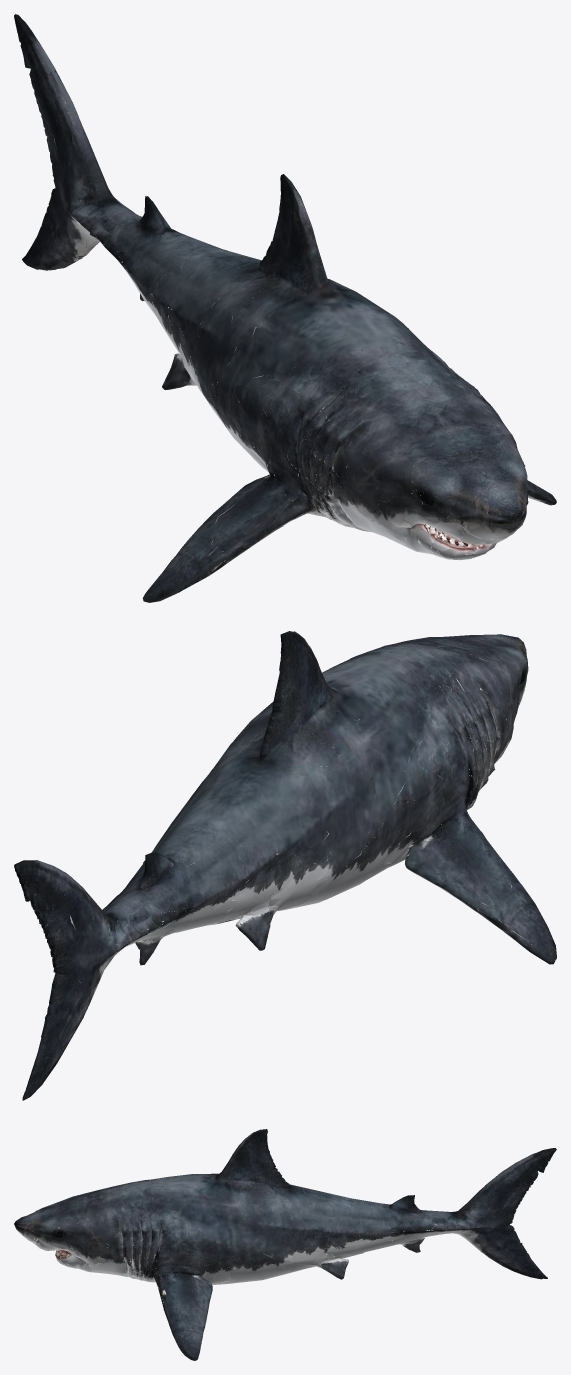
The model's file is shark.glb.
3 views of the same model, one above another, from view 1: azimuth 30°, elevation 25°; view 2: azimuth 150°, elevation 25°; view 3: azimuth 270°, elevation 25° (orthographic). The views are drawn at different scales.
Parts seen in each view (by area): view 1: great-white-shark; view 2: great-white-shark; view 3: great-white-shark.
Boxes of the visible parts, <box> form: great-white-shark: <box>14,14,556,602</box>; great-white-shark: <box>14,631,556,1100</box>; great-white-shark: <box>14,1129,556,1360</box>.
Size of the model in its own units: 2.37 by 1.81 by 5.
1 material, 1 textured.
